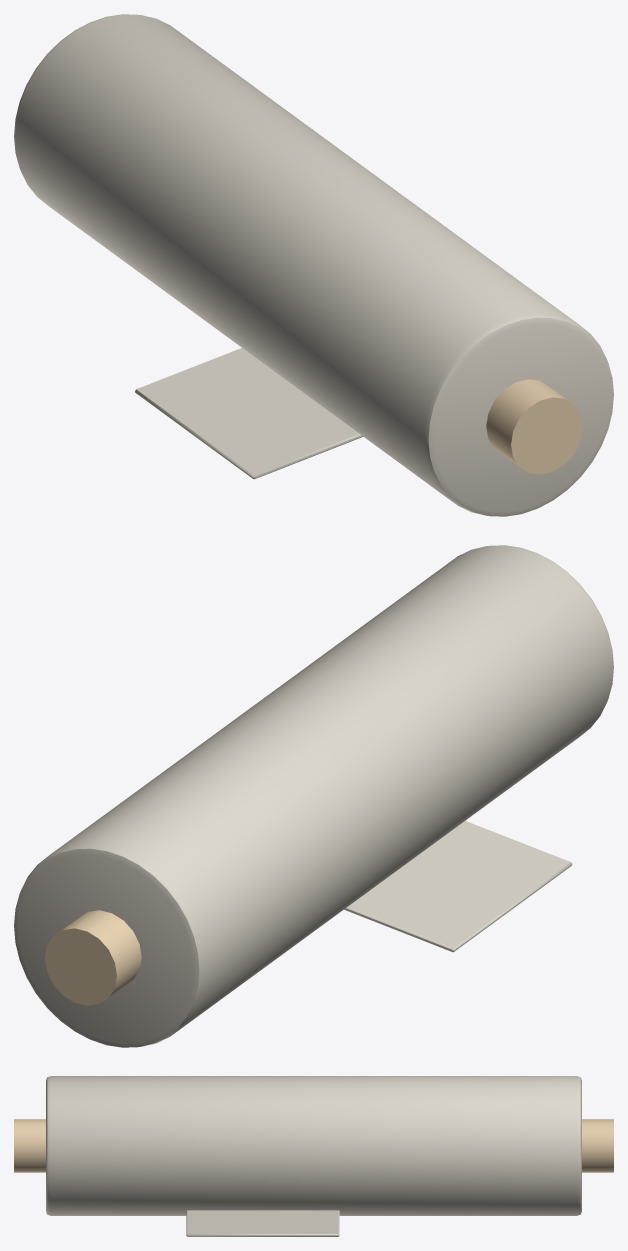
Rendered from bolt.glb.
3 views of the same model, one above another, from view 1: azimuth 30°, elevation 25°; view 2: azimuth 150°, elevation 25°; view 3: azimuth 270°, elevation 25° (orthographic). The views are drawn at different scales.
Parts seen in each view (by area): view 1: bolt; view 2: bolt; view 3: bolt.
Boxes of the visible parts, box(x1,y1,x2,y2) form: bolt: box(14, 14, 613, 516); bolt: box(14, 545, 613, 1047); bolt: box(14, 1076, 613, 1236).
Bounding box in the file's own units: 0.1982 × 0.1125 × 0.47.
